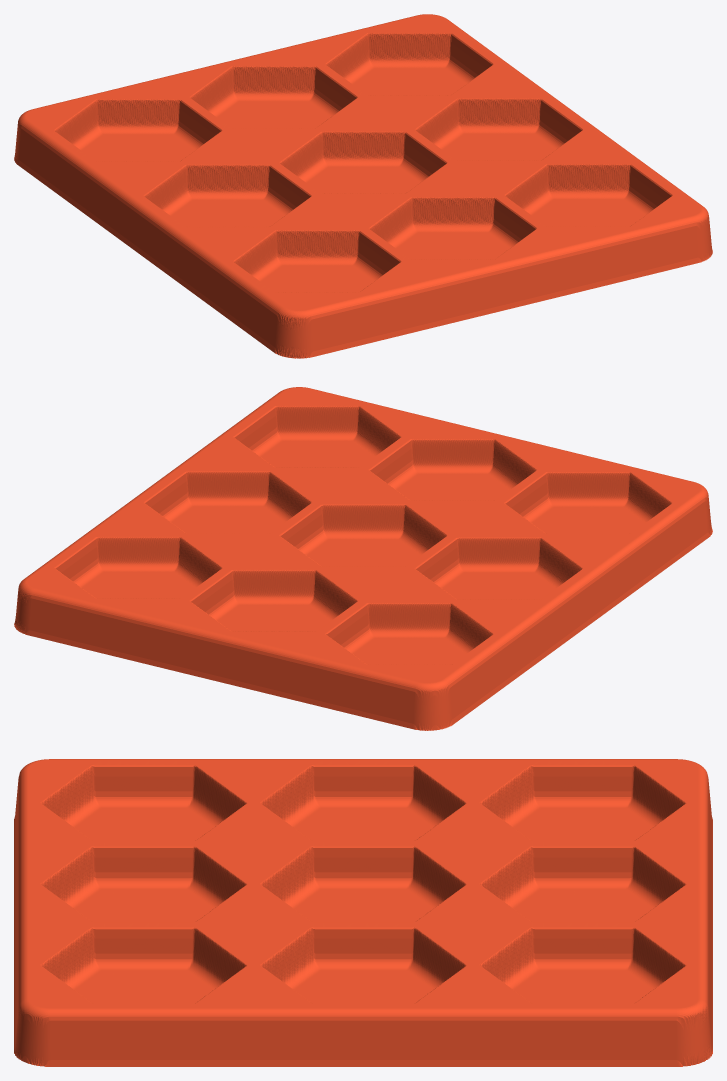
Rendered from mold.glb.
3 renders of one model, top to bottom at view 1: azimuth 30°, elevation 25°; view 2: azimuth 150°, elevation 25°; view 3: azimuth 270°, elevation 25°, orthographic. The views are drawn at different scales.
Visible parts, largest first — view 1: geometry_0; view 2: geometry_0; view 3: geometry_0.
Boxes of the visible parts, <box> form: geometry_0: <box>14,14,712,358</box>; geometry_0: <box>14,387,712,730</box>; geometry_0: <box>14,759,712,1066</box>.
Bounding box in the file's own units: 0.1542 × 0.0145 × 0.1749.
